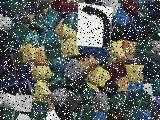Left: (76, 3, 112, 48)
